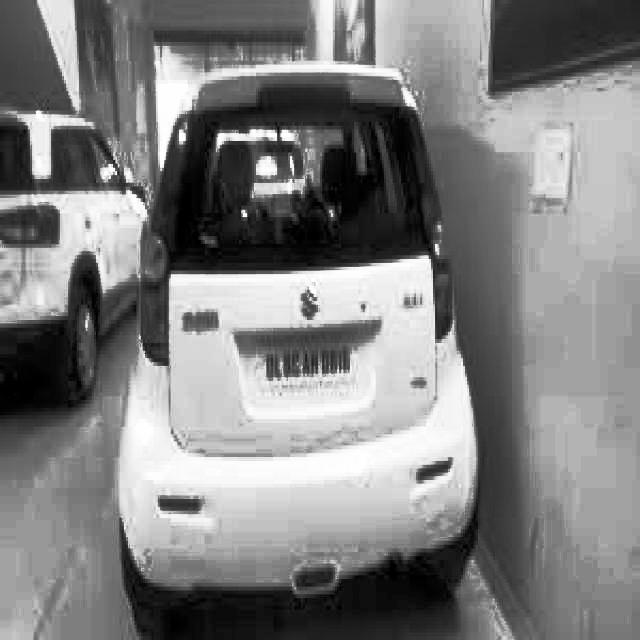Car: (128, 57, 484, 601), (4, 93, 153, 427)
